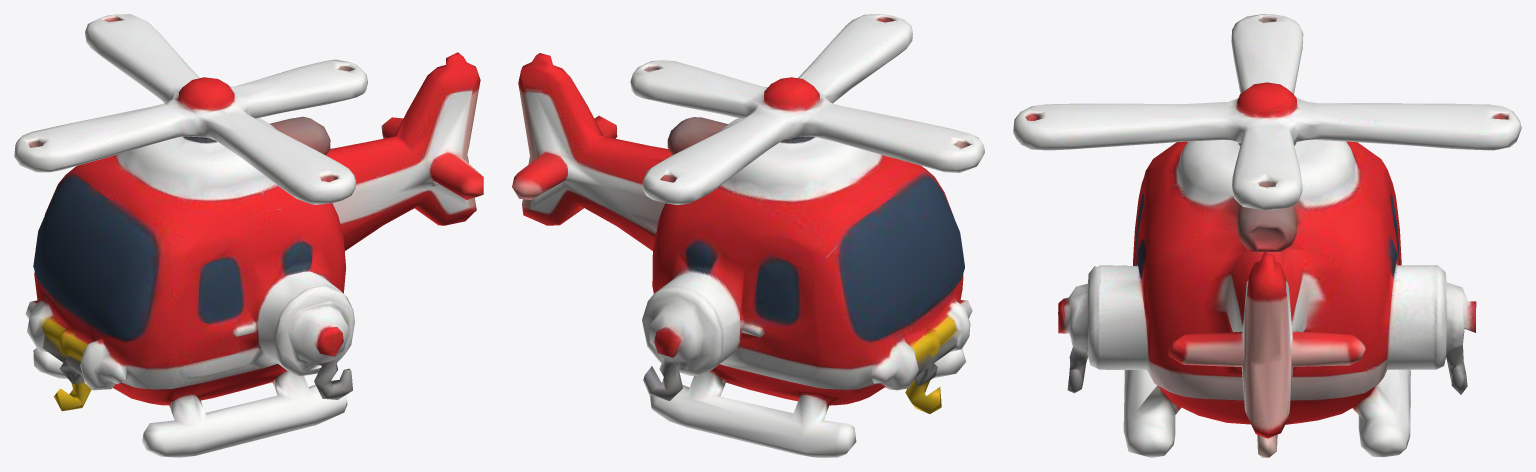
The model's file is helicoptero.glb.
3 renders of one model, left to right at view 1: azimuth 30°, elevation 25°; view 2: azimuth 150°, elevation 25°; view 3: azimuth 270°, elevation 25°, orthographic. The views are drawn at different scales.
Visible parts, largest first — view 1: tripo_node_a856d6d3-12e2-47d3-a135-4f952950c776; view 2: tripo_node_a856d6d3-12e2-47d3-a135-4f952950c776; view 3: tripo_node_a856d6d3-12e2-47d3-a135-4f952950c776.
Boxes of the visible parts, x1,y1,x2,y2 form: tripo_node_a856d6d3-12e2-47d3-a135-4f952950c776: (14,14,483,457); tripo_node_a856d6d3-12e2-47d3-a135-4f952950c776: (512,14,984,457); tripo_node_a856d6d3-12e2-47d3-a135-4f952950c776: (1013,14,1521,457).
Bounding box in the file's own units: 0.9785 × 0.6369 × 0.8735.
Materials: 1 (1 with a texture image).
